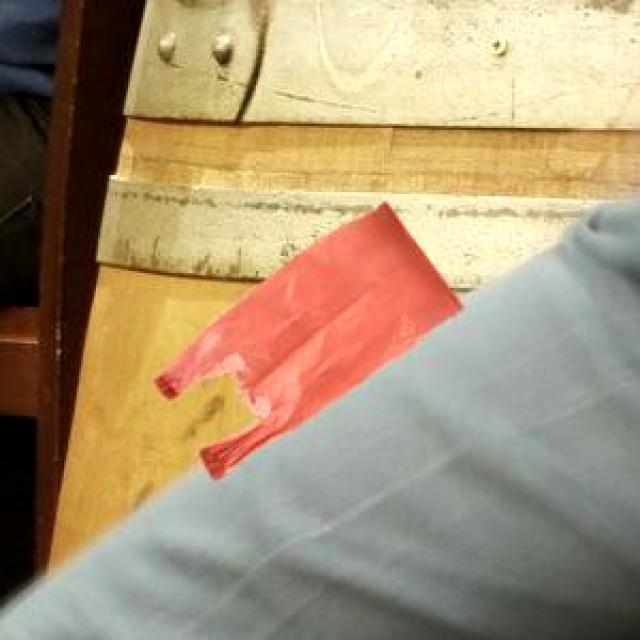Plastic_Bag: (150, 199, 460, 477)
